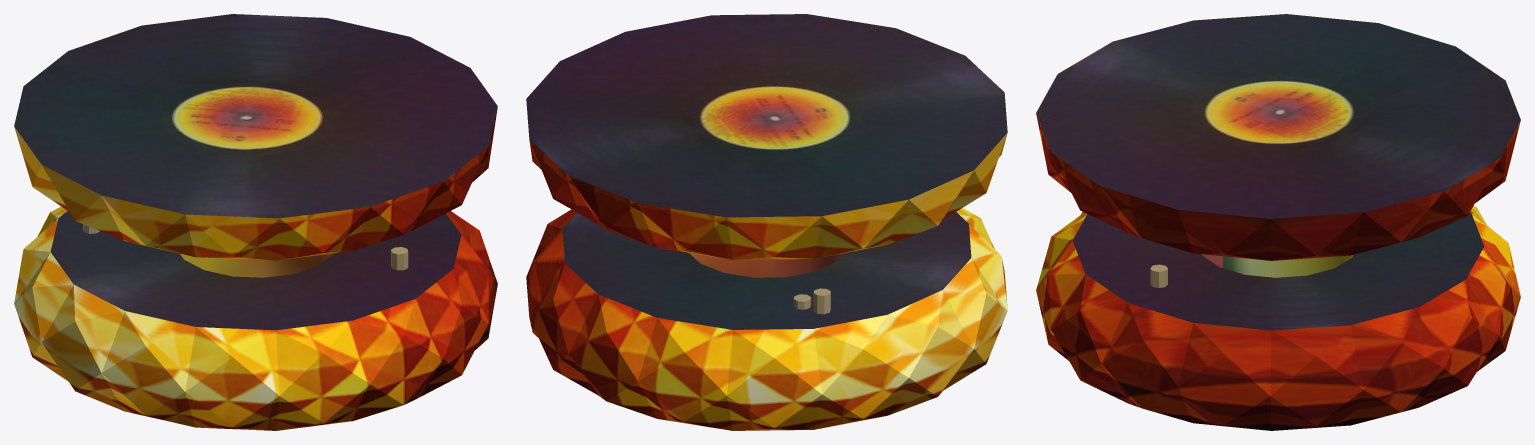
File: msh_BarAnanas.fbx
3 renders of one model, left to right at view 1: azimuth 30°, elevation 25°; view 2: azimuth 150°, elevation 25°; view 3: azimuth 270°, elevation 25°, orthographic.
Visible parts, largest first — view 1: msh_BarAnanas, msh_BarAnanas.001; view 2: msh_BarAnanas, msh_BarAnanas.001; view 3: msh_BarAnanas, msh_BarAnanas.001.
Boxes of the visible parts, box(x1,y1,x2,y2) form: msh_BarAnanas: box(14, 14, 497, 430); msh_BarAnanas.001: box(160, 76, 351, 156); msh_BarAnanas: box(526, 14, 1007, 430); msh_BarAnanas.001: box(672, 75, 861, 155); msh_BarAnanas: box(1036, 14, 1520, 430); msh_BarAnanas.001: box(1183, 76, 1373, 156).
Size of the model in its own units: 582 by 301 by 582.
